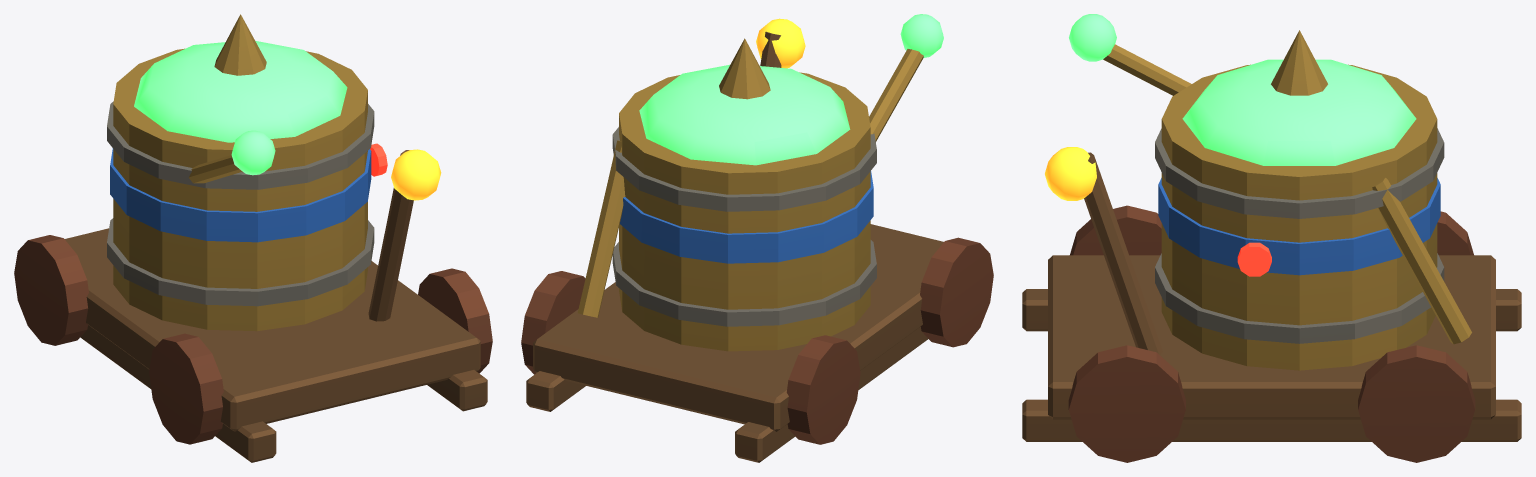
File: cuve.glb
The picture shows the model from 3 angles, left to right: view 1: azimuth 30°, elevation 25°; view 2: azimuth 150°, elevation 25°; view 3: azimuth 270°, elevation 25°; orthographic projection. The views are drawn at different scales.
Parts seen in each view (by area): view 1: cuve; view 2: cuve; view 3: cuve.
Boxes of the visible parts, x1=… form: cuve: x1=14, y1=14, x2=492, y2=462; cuve: x1=521, y1=14, x2=993, y2=462; cuve: x1=1022, y1=14, x2=1521, y2=462.
Size of the model in its own units: 1.04 by 1.15 by 1.45.
